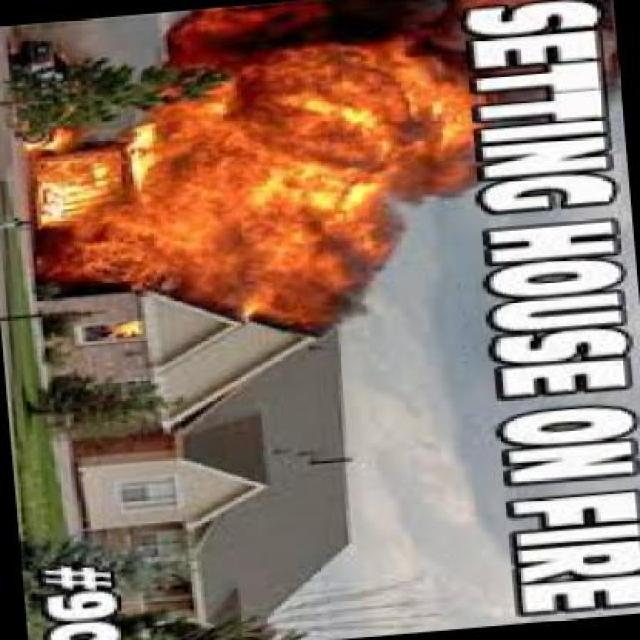Fire: (24, 47, 483, 330)
